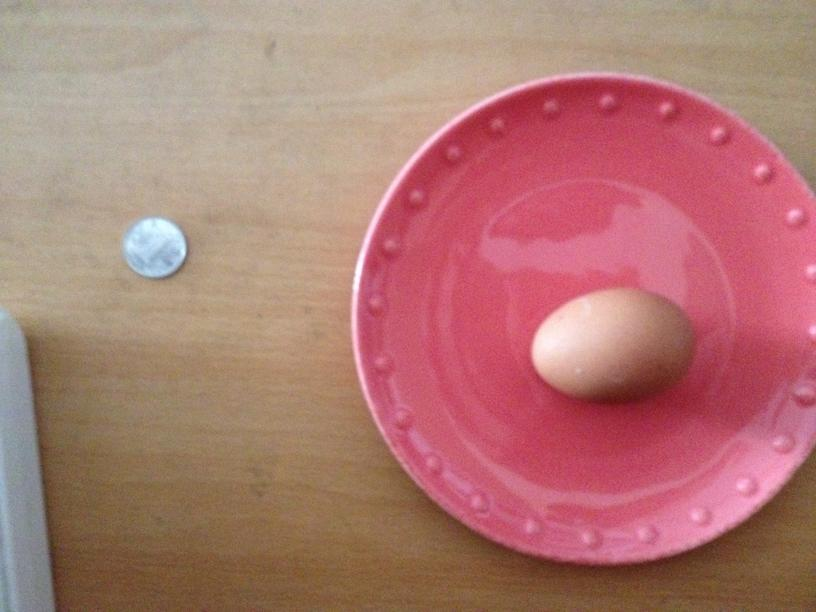coin: (122, 217, 189, 278)
egg: (525, 286, 694, 402)
